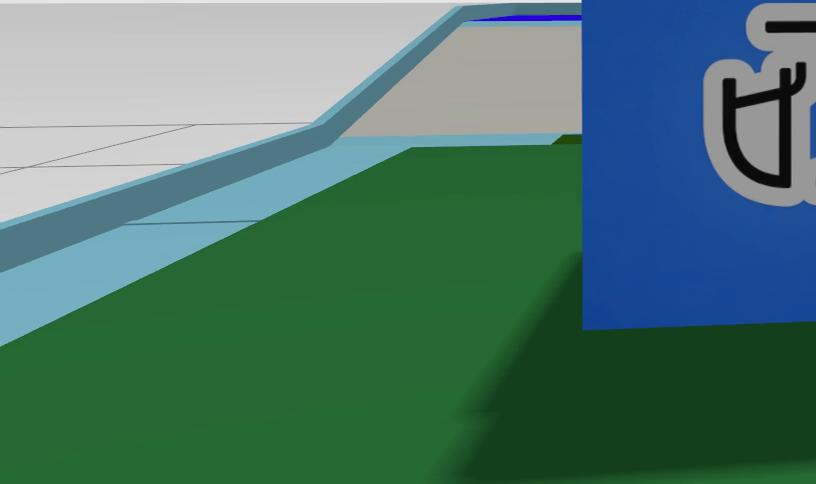KFS_REAL: (580, 0, 816, 329), (704, 0, 816, 206)
